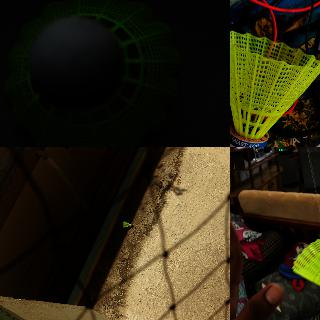shuttlecock: (4, 0, 181, 146), (230, 29, 319, 146), (290, 238, 319, 305), (122, 220, 132, 228)
